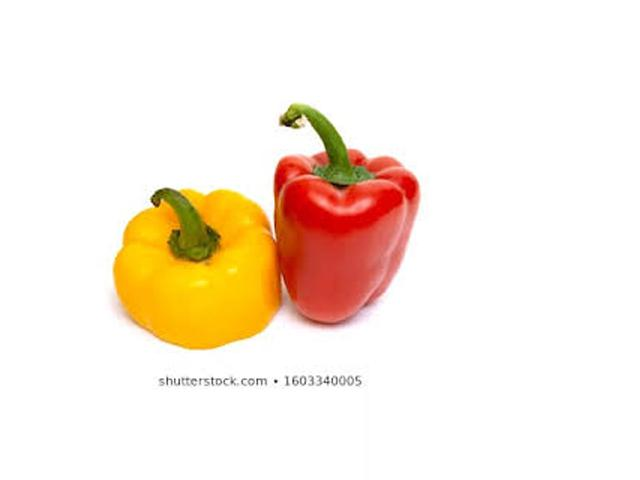bell_pepper: (104, 173, 285, 362)
